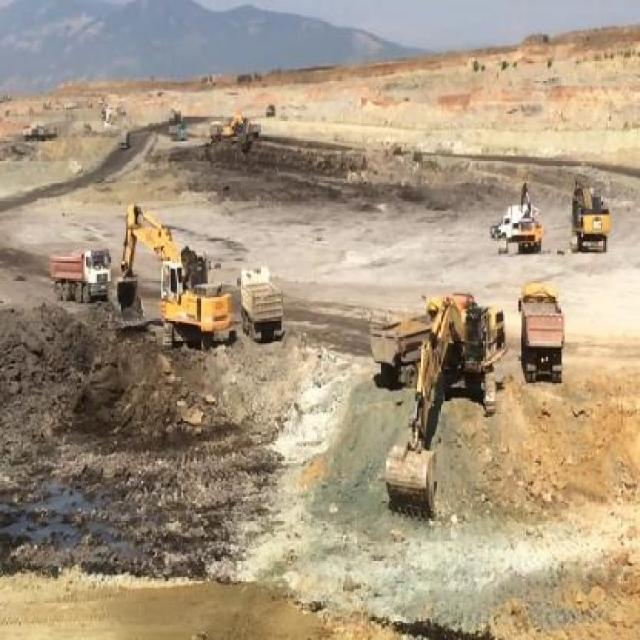Dump Truck: (518, 284, 564, 382), (45, 245, 113, 302), (370, 318, 418, 385), (242, 268, 281, 332), (516, 218, 541, 256)
Excavator: (381, 300, 507, 522), (112, 208, 233, 364), (568, 178, 610, 258)
